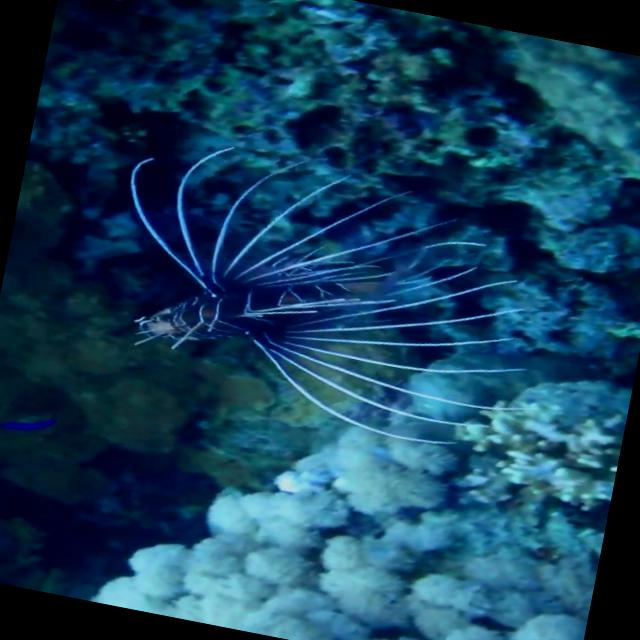Aslan Baligi: (86, 123, 572, 465)
